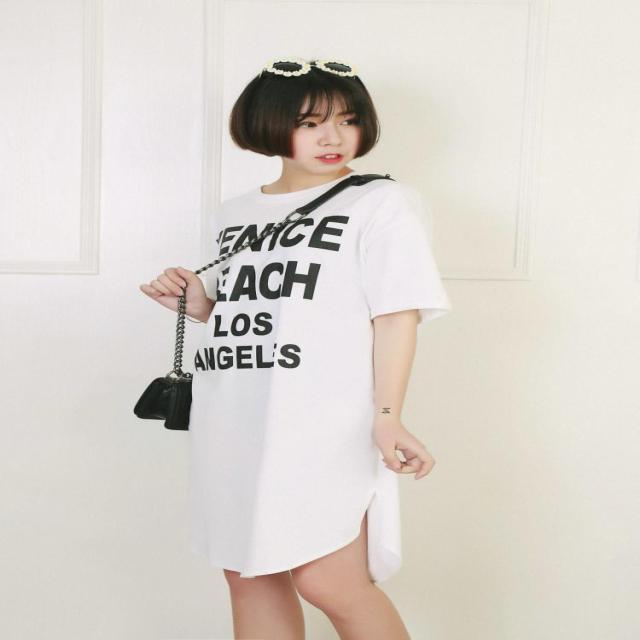short sleeve dress: (191, 172, 451, 571)
